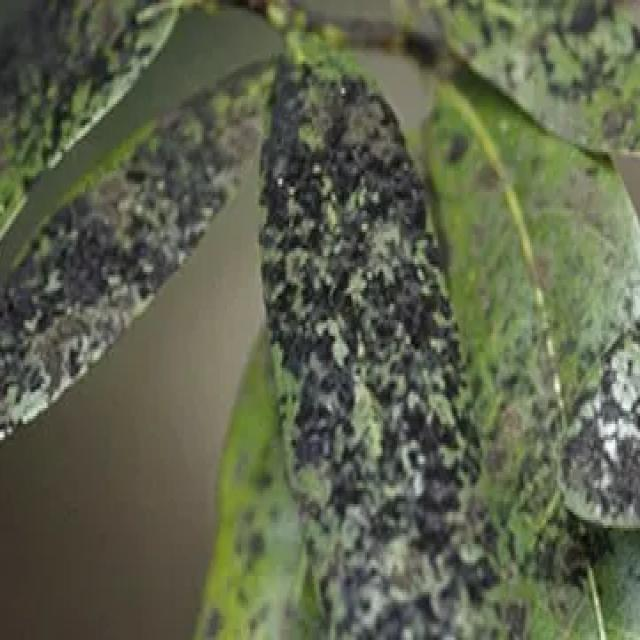Sooty Mold: (255, 45, 506, 638), (553, 294, 638, 534)
